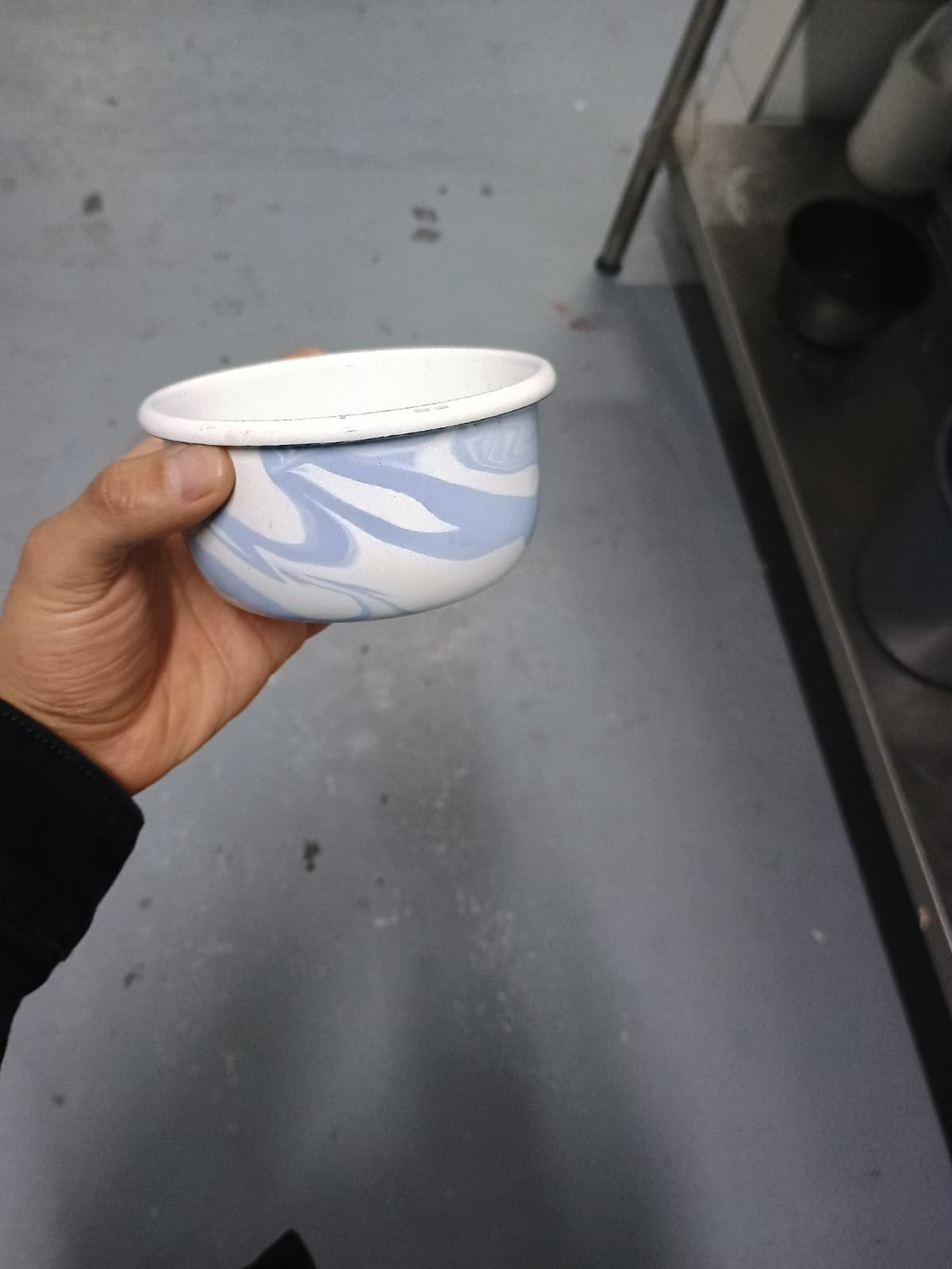Plastico: (140, 349, 558, 623)
